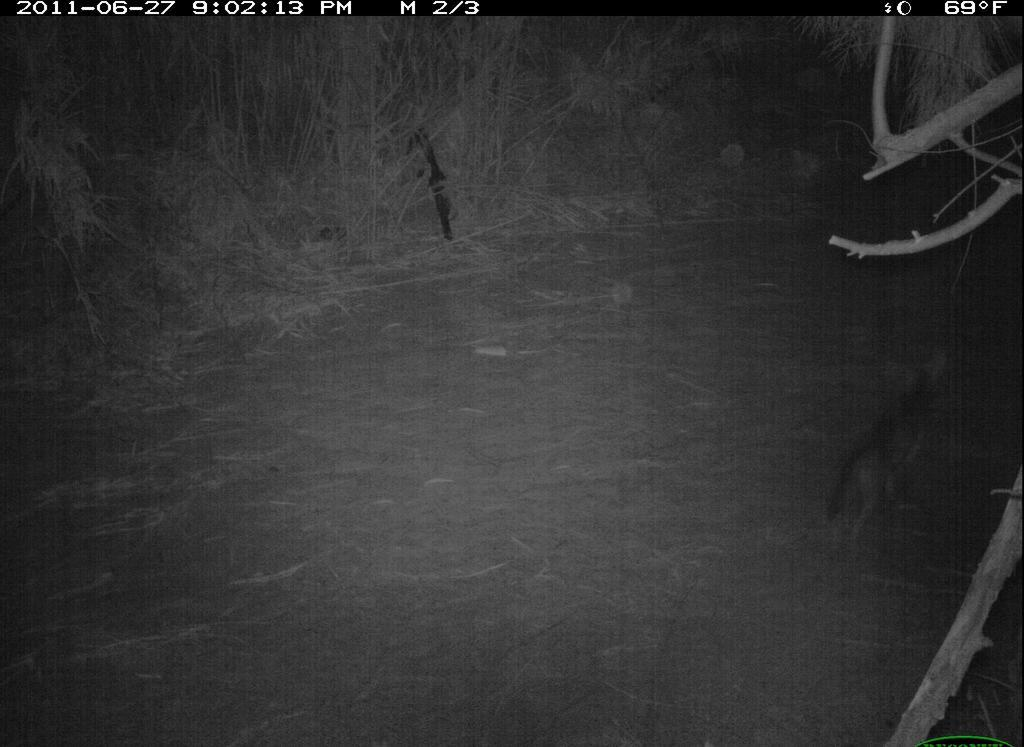coyote: (818, 344, 957, 555)
